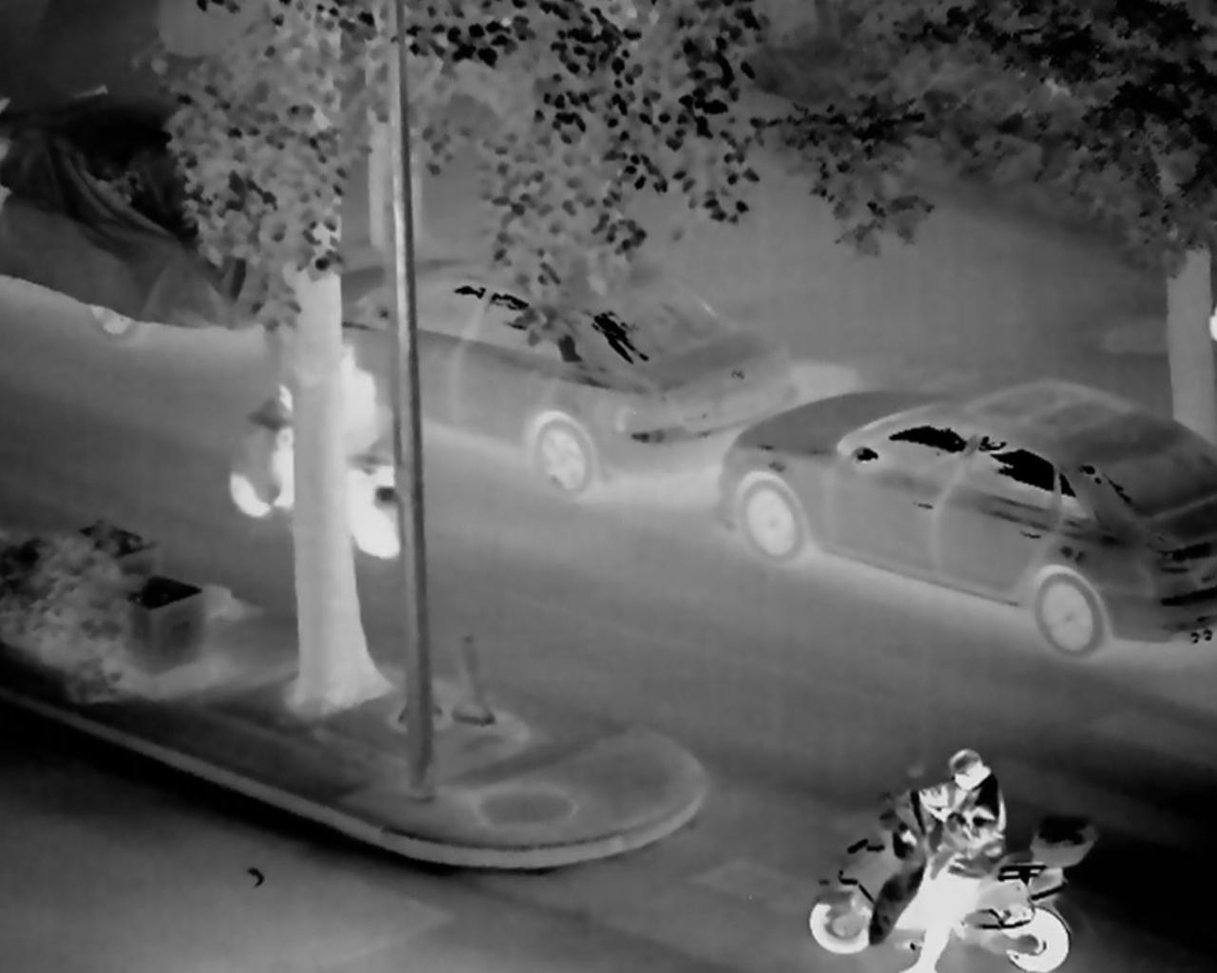person: (881, 737, 1027, 973), (249, 339, 401, 547)
